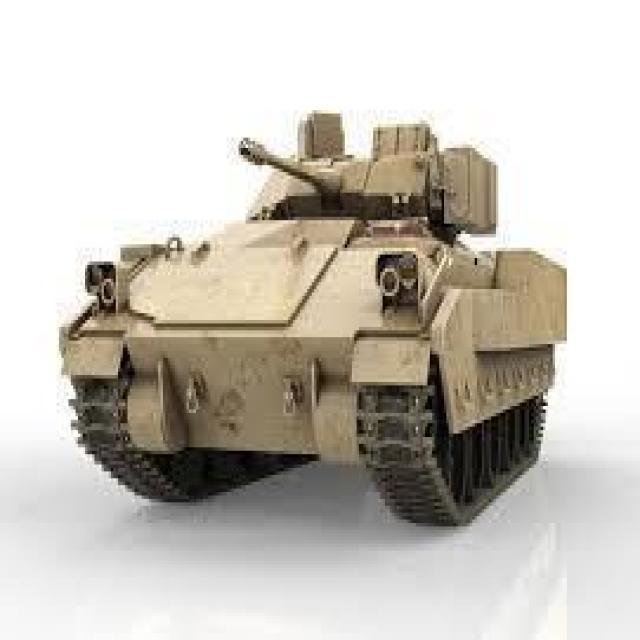Tanks: (54, 98, 574, 528)
